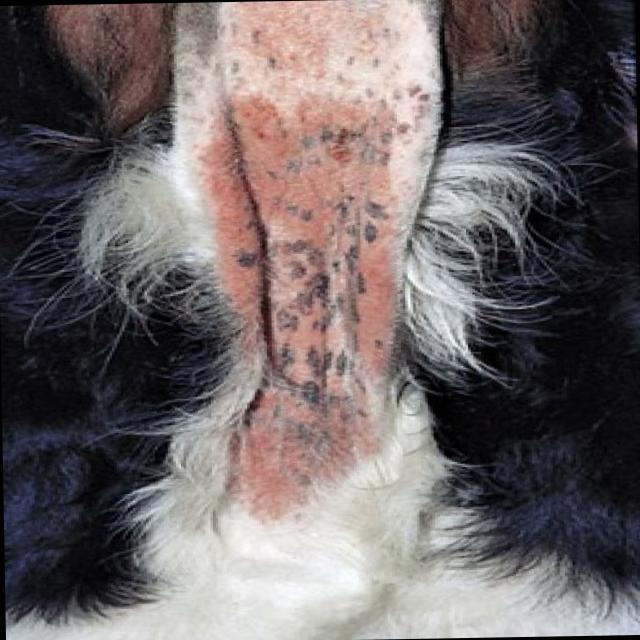fungal infection: (196, 111, 388, 509), (236, 0, 403, 72), (384, 114, 438, 166), (354, 82, 436, 105)
